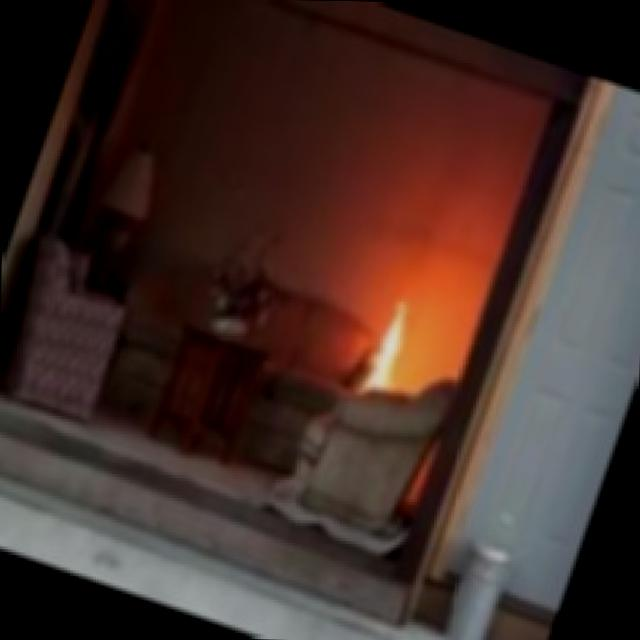fire: (356, 271, 435, 392)
